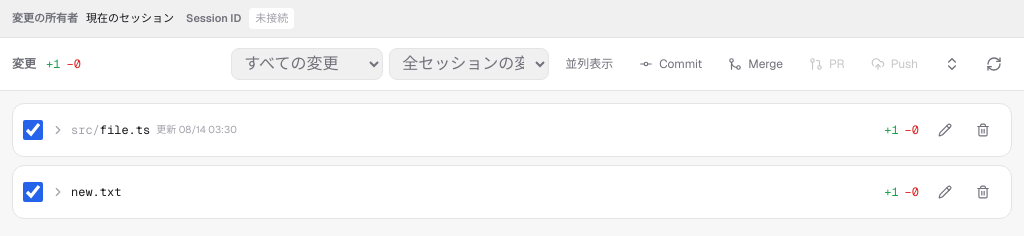
Test: DiffPane directory race › distinguishes an empty filter from a repository with no changes
Expected: the text "file.ts" is shown, [100,122,150,138]
Select "新規ファイル" in the dropdown named "表示する変更の種類" at x=307, y=64, box [231,48,383,80]
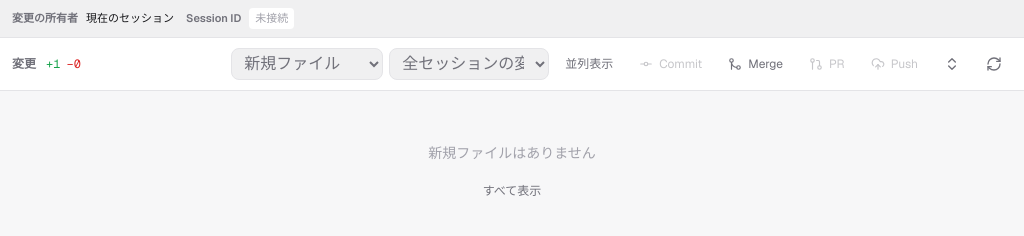
Now the text "新規ファイルはありません" is shown, box [428,142,596,162]
Click the button "すべて表示" at x=512, y=190, box [473,174,551,206]
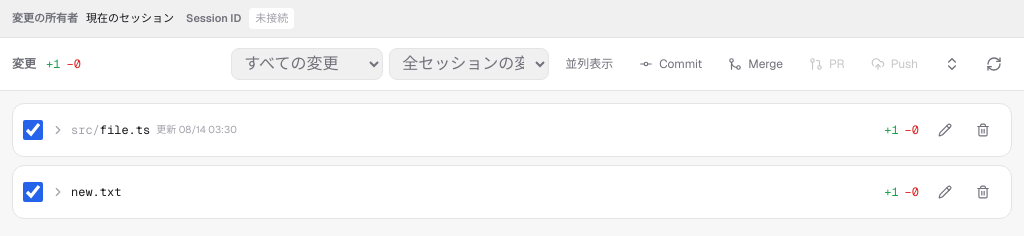
Now the text "file.ts" is shown, box [100,122,150,138]
